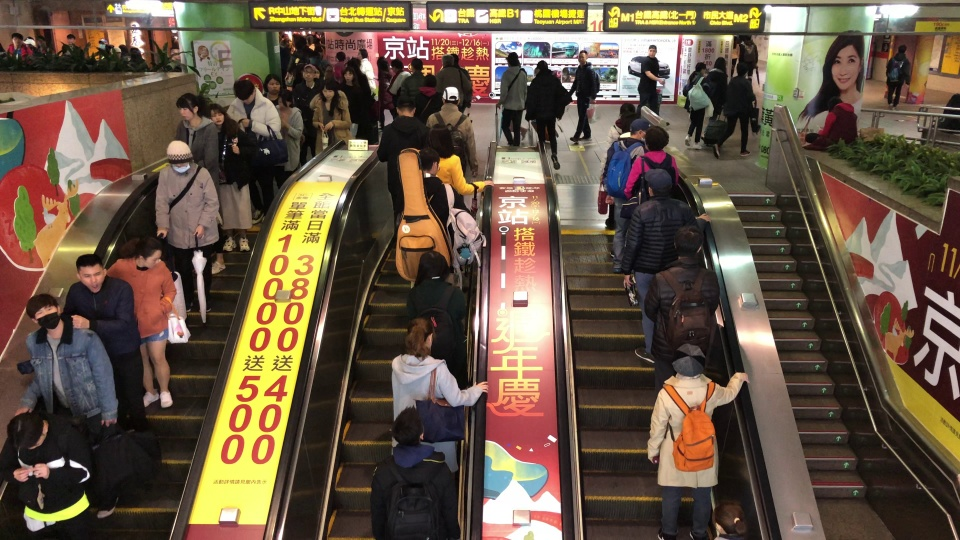person_head: (383, 407, 426, 450), (4, 411, 49, 451), (24, 293, 62, 332), (74, 253, 108, 294), (412, 251, 448, 288), (672, 223, 705, 263), (710, 502, 747, 536), (401, 317, 439, 350), (671, 343, 706, 376), (132, 236, 163, 270), (165, 140, 194, 175), (175, 93, 203, 128), (641, 168, 672, 199), (430, 125, 457, 155), (412, 147, 439, 176), (642, 125, 669, 151), (231, 79, 257, 104), (628, 117, 651, 138), (207, 101, 227, 125), (261, 74, 282, 96), (394, 98, 416, 118), (319, 79, 338, 99), (440, 87, 461, 105), (616, 102, 636, 119), (301, 63, 318, 80), (277, 93, 294, 110), (734, 61, 749, 78), (129, 46, 144, 62), (504, 52, 520, 67), (713, 55, 728, 71), (825, 97, 842, 111), (410, 57, 424, 73), (377, 55, 390, 71), (390, 57, 403, 73), (109, 45, 122, 60), (347, 57, 362, 70), (423, 73, 436, 88), (577, 48, 588, 65), (294, 35, 307, 49), (440, 55, 454, 68), (449, 51, 461, 66), (11, 33, 23, 47), (534, 60, 548, 72), (322, 64, 334, 77), (645, 45, 657, 57), (356, 48, 369, 59), (694, 63, 707, 73), (65, 33, 75, 45), (97, 37, 107, 49), (344, 69, 354, 81), (730, 36, 740, 48), (895, 44, 907, 54), (35, 35, 46, 45), (335, 51, 346, 61), (24, 35, 34, 44), (741, 35, 752, 42)
person_vbox: (14, 292, 128, 518), (644, 343, 748, 540), (620, 167, 711, 363), (388, 316, 488, 473), (62, 251, 147, 429), (392, 144, 483, 288), (367, 407, 462, 540), (105, 236, 178, 409), (153, 139, 220, 313), (1, 411, 91, 540), (172, 92, 230, 274), (648, 223, 714, 375), (400, 250, 472, 387), (225, 77, 286, 225), (203, 98, 258, 254), (605, 116, 652, 269), (378, 97, 428, 235), (617, 124, 680, 221), (528, 59, 574, 171), (426, 84, 481, 177), (424, 122, 492, 194), (711, 61, 760, 159), (599, 98, 635, 227), (562, 48, 601, 143), (308, 78, 355, 156), (680, 63, 715, 151), (803, 96, 858, 152), (273, 93, 305, 189), (497, 52, 528, 146), (293, 61, 321, 164), (346, 57, 378, 142), (701, 55, 728, 143), (634, 44, 665, 120), (436, 56, 472, 113), (883, 43, 911, 111), (708, 501, 752, 540), (281, 35, 318, 81), (376, 54, 398, 130), (341, 67, 363, 138), (415, 71, 441, 119), (738, 34, 761, 86), (401, 56, 426, 96), (356, 47, 376, 95), (449, 52, 474, 84), (390, 55, 410, 93), (726, 35, 740, 78), (7, 32, 28, 59), (62, 33, 84, 58), (34, 35, 56, 56), (95, 36, 114, 59), (333, 50, 347, 77), (23, 34, 36, 55)
